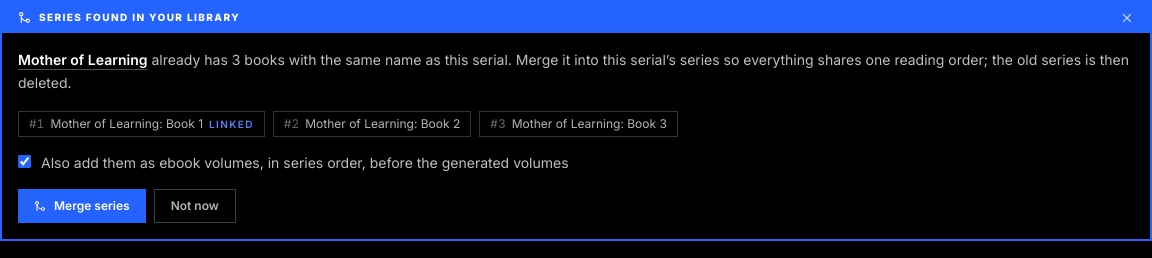
Series merging › offers to merge a matching series and link its books
Check: the element with test id "series-merge-banner" shows "Mother of Learning", box [18, 51, 148, 68]
Check: the element with test id "series-merge-banner" shows "LINKED", box [209, 118, 254, 130]
Click the button with test id "series-merge-confirm" at (82, 206), box [18, 188, 146, 222]
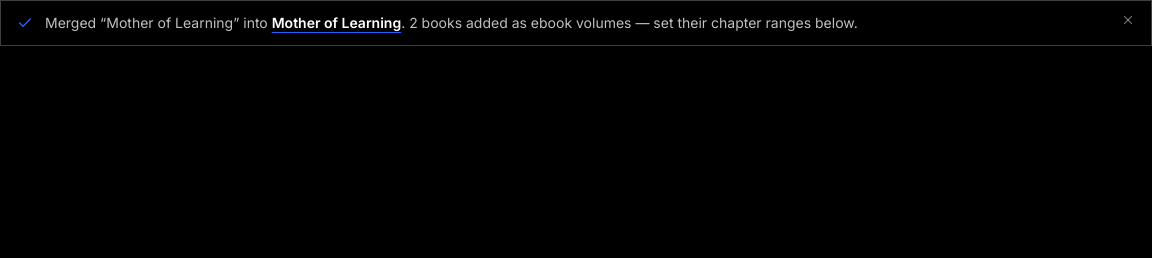
Check: the element with test id "series-merge-done" shows "2 books added as ebook volumes", box [405, 14, 858, 31]
